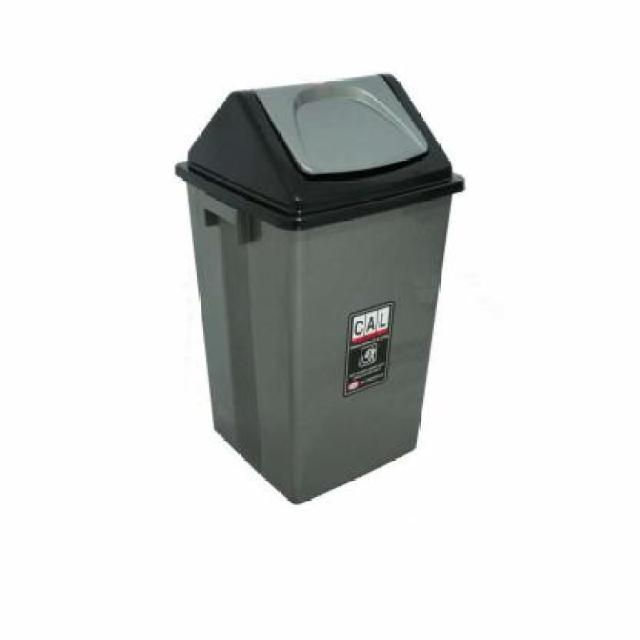garbage container: (172, 64, 473, 522)
